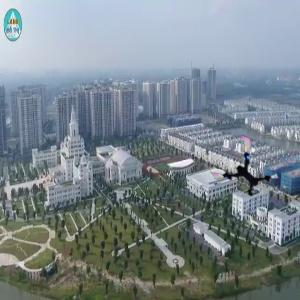drone: (213, 142, 273, 202)
